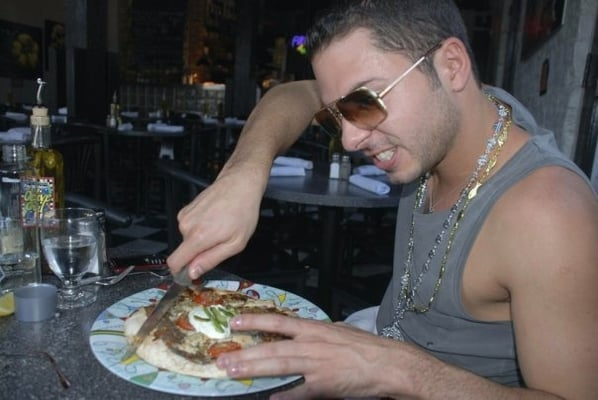pizza: (39, 207, 103, 309), (14, 283, 59, 323)
